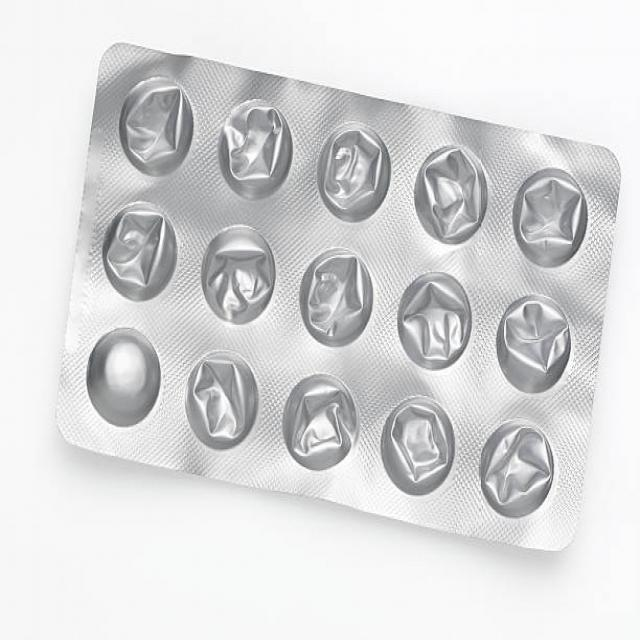Empty: (276, 360, 363, 482), (374, 384, 457, 510), (294, 232, 378, 354), (314, 109, 399, 228), (471, 409, 558, 524), (194, 213, 279, 330), (501, 161, 595, 266), (408, 141, 496, 252), (117, 64, 199, 182), (395, 264, 477, 378), (182, 340, 258, 461), (493, 285, 575, 394), (218, 88, 291, 206), (100, 199, 180, 303)
Pill: (84, 309, 164, 439)
